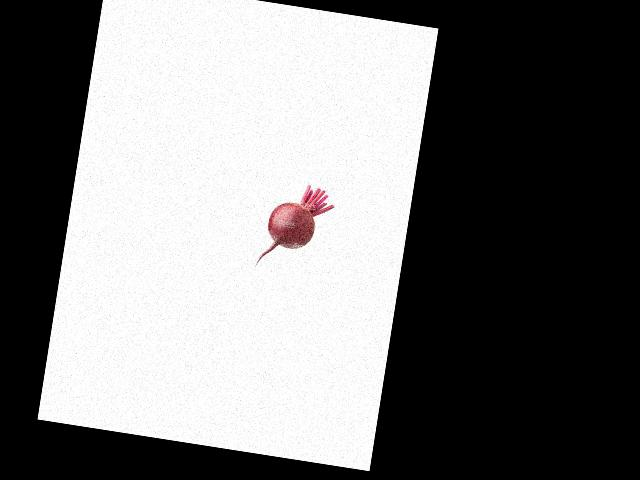beet: (255, 178, 337, 275)
